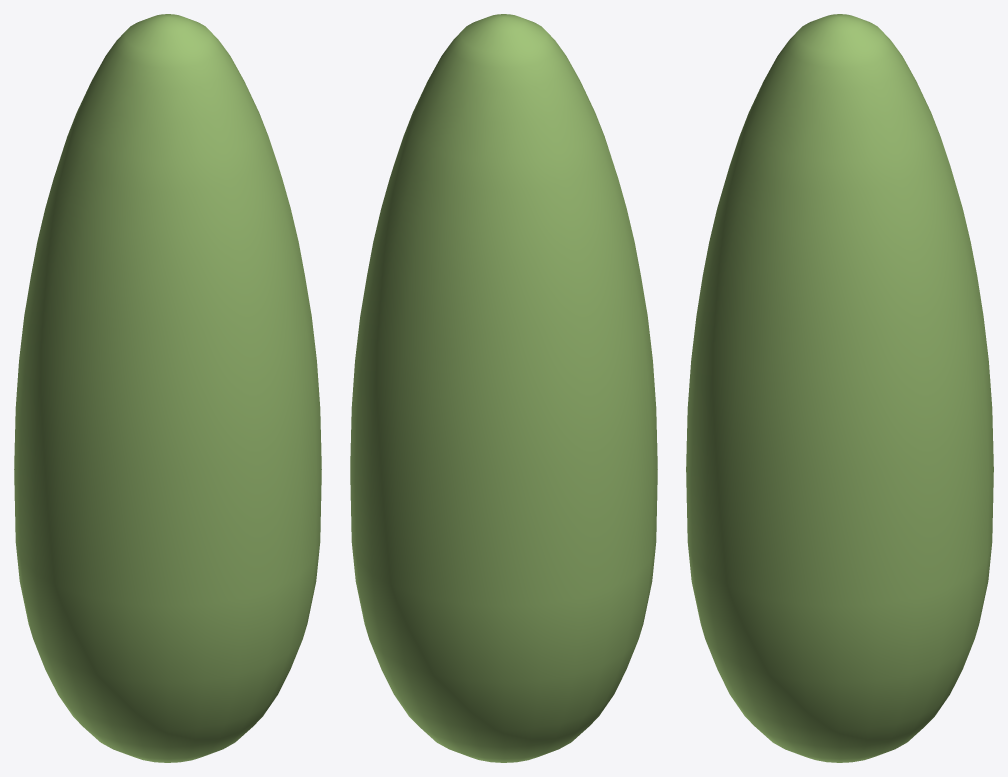
Rendered from LigustrumOvalifolium.glb.
3 views of the same model, side by side, from view 1: azimuth 30°, elevation 25°; view 2: azimuth 150°, elevation 25°; view 3: azimuth 270°, elevation 25° (orthographic).
Parts seen in each view (by area): view 1: Oval_Leaved_Privet__Schematic_LOD3; view 2: Oval_Leaved_Privet__Schematic_LOD3; view 3: Oval_Leaved_Privet__Schematic_LOD3.
Part boxes in pixels (left/top/right/bottom): Oval_Leaved_Privet__Schematic_LOD3: left=14, top=14, right=321, bottom=762; Oval_Leaved_Privet__Schematic_LOD3: left=350, top=14, right=657, bottom=762; Oval_Leaved_Privet__Schematic_LOD3: left=686, top=14, right=993, bottom=762.
Size of the model in its own units: 1.16 by 3.06 by 1.16.
